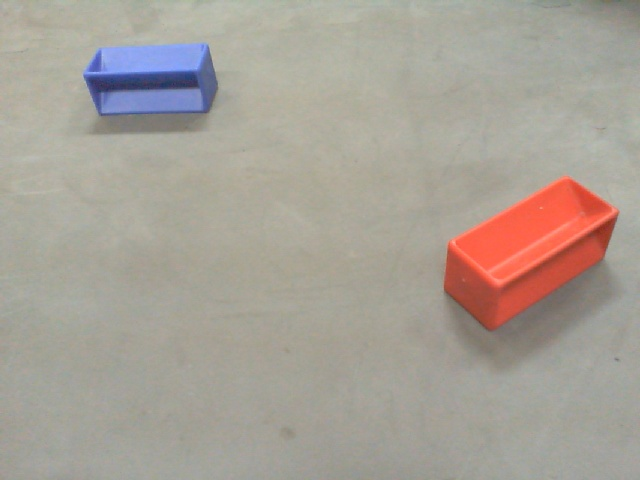BlueSample: (81, 37, 225, 119)
RedSample: (441, 174, 619, 335)
